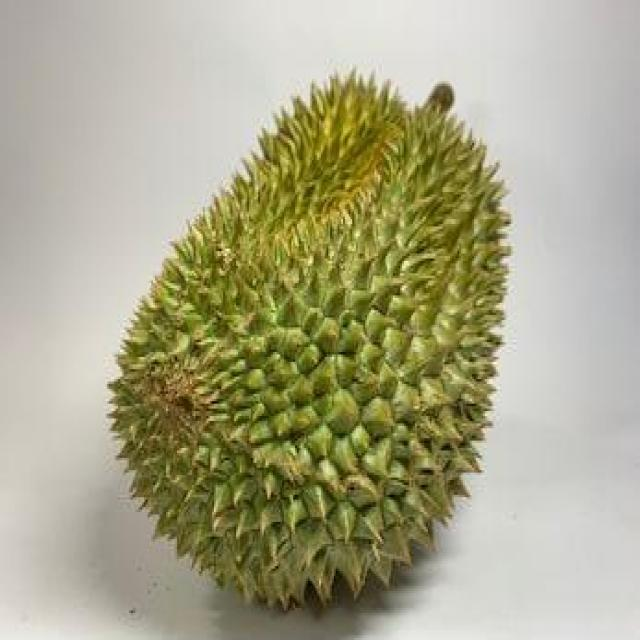immature: (104, 59, 514, 618)
